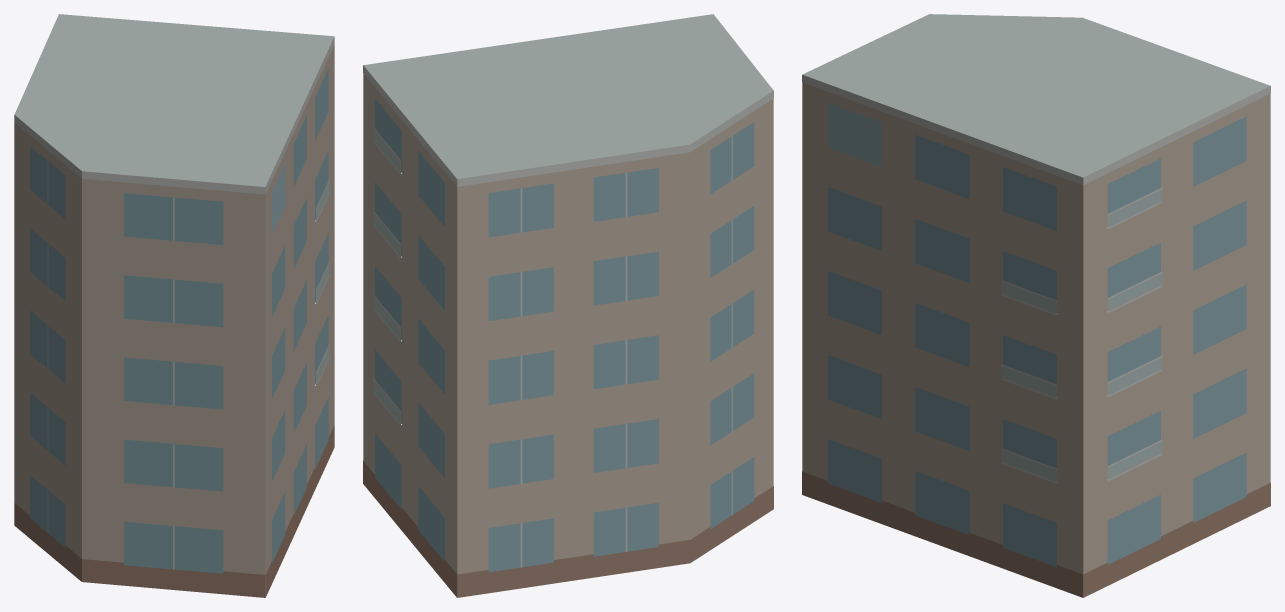
The model's file is survey-upis-33005682.glb.
3 views of the same model, side by side, from view 1: azimuth 30°, elevation 25°; view 2: azimuth 150°, elevation 25°; view 3: azimuth 270°, elevation 25° (orthographic). The views are drawn at different scales.
Parts seen in each view (by area): view 1: survey-upis-33005682.tmp; view 2: survey-upis-33005682.tmp; view 3: survey-upis-33005682.tmp.
Boxes of the visible parts, left/top/right/bottom form: survey-upis-33005682.tmp: left=14, top=14, right=334, bottom=597; survey-upis-33005682.tmp: left=363, top=14, right=773, bottom=597; survey-upis-33005682.tmp: left=802, top=14, right=1270, bottom=597.
Bounding box in the file's own units: 11.11 × 13.3 × 13.45.
